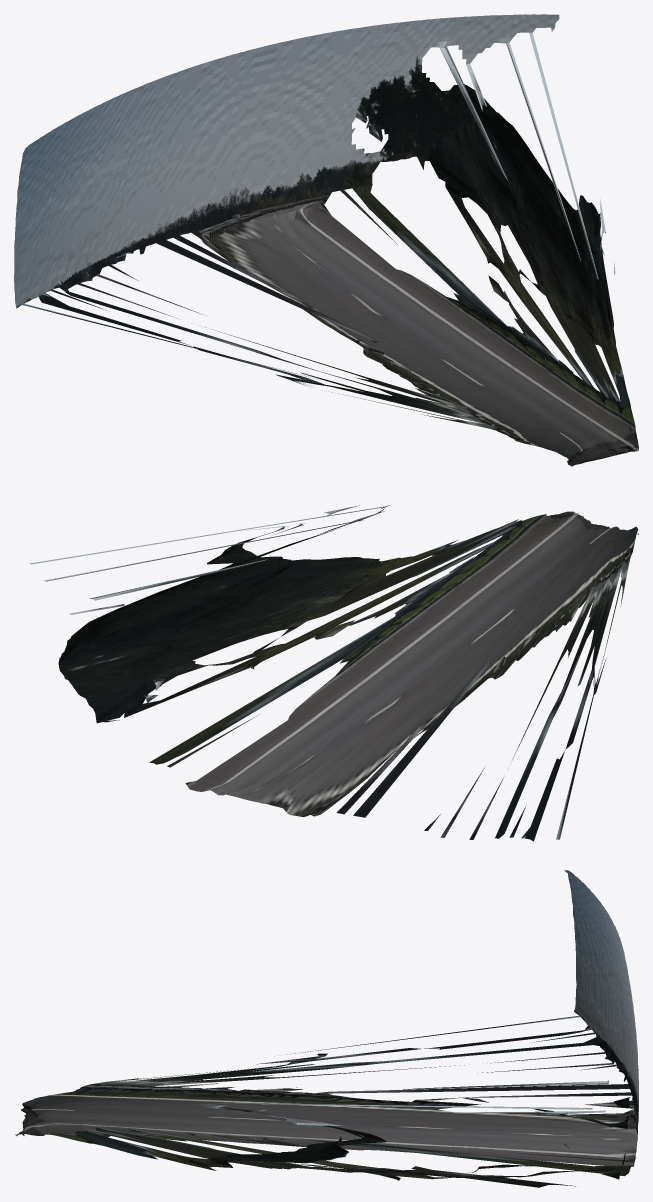
The picture shows the model from 3 angles, top to bottom: view 1: azimuth 30°, elevation 25°; view 2: azimuth 150°, elevation 25°; view 3: azimuth 270°, elevation 25°; orthographic projection. The views are drawn at different scales.
Parts seen in each view (by area): view 1: defaultobject; view 2: defaultobject; view 3: defaultobject.
Boxes of the visible parts, bbox=[...] form: defaultobject: bbox=[14, 14, 638, 466]; defaultobject: bbox=[29, 505, 638, 841]; defaultobject: bbox=[15, 870, 638, 1187].
Size of the model in its own units: 40.03 by 12.86 by 44.75.
Materials: 1 (1 with a texture image).
